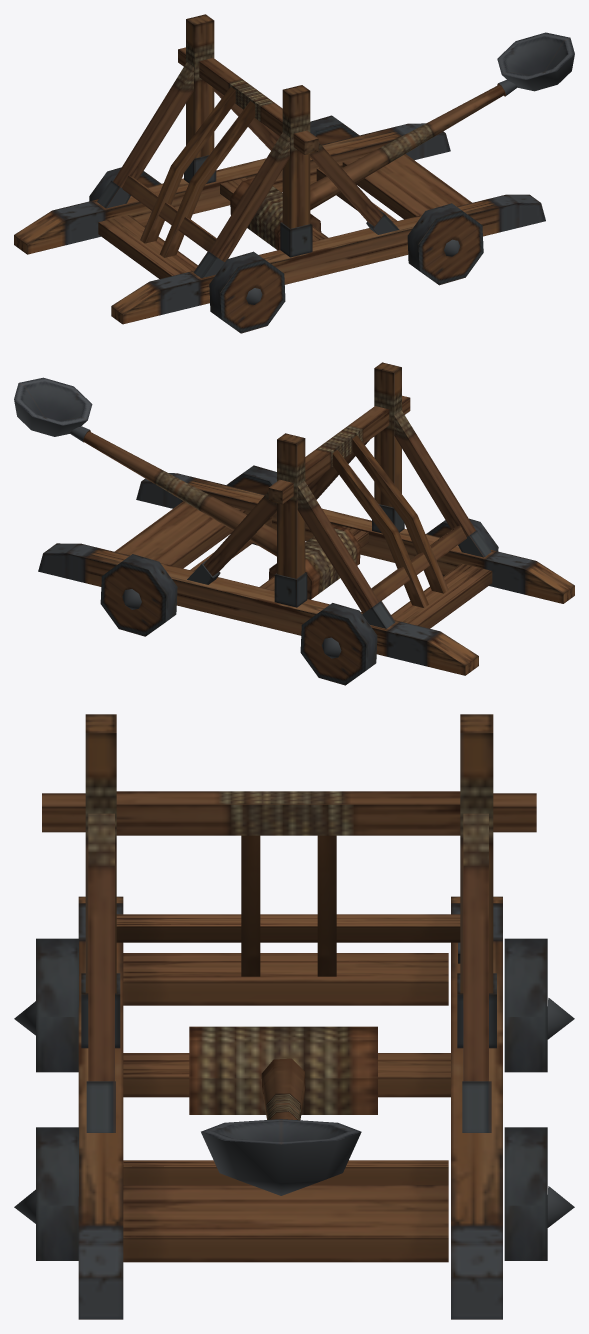
File: 2_YiZhan_TouShiChe_01.FBX
3 renders of one model, top to bottom at view 1: azimuth 30°, elevation 25°; view 2: azimuth 150°, elevation 25°; view 3: azimuth 270°, elevation 25°, orthographic. The views are drawn at different scales.
Parts seen in each view (by area): view 1: 2_YiZhan_TouShiChe_01; view 2: 2_YiZhan_TouShiChe_01; view 3: 2_YiZhan_TouShiChe_01.
Boxes of the visible parts, x1=… form: 2_YiZhan_TouShiChe_01: x1=14, y1=14, x2=574, y2=333; 2_YiZhan_TouShiChe_01: x1=14, y1=362, x2=574, y2=685; 2_YiZhan_TouShiChe_01: x1=14, y1=714, x2=574, y2=1319.
Size of the model in its own units: 616 by 252 by 307.
